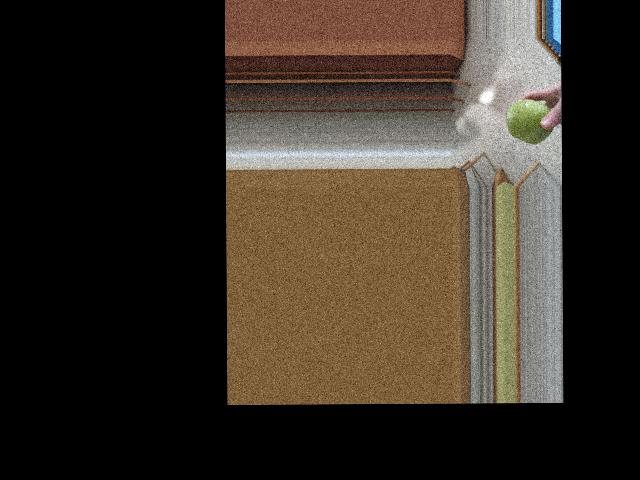apple: (504, 96, 554, 147)
